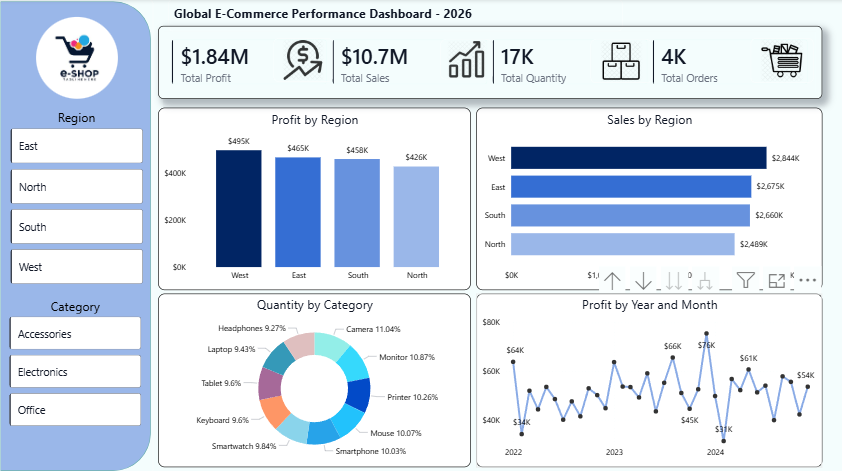

What the dashboard file says about the page in this screenshot:
{"tool":"powerbi","page":{"name":"Executive Sales Overview","canvas":[1280,720],"ordinal":0},"visuals":[{"type":"shape","box":[0,0,236.1,720.2],"z":0},{"type":"clusteredBarChart","title":"Sales by Region","fields":{"Category":["Ecommerce_Project_Cleaned.Region"],"Y":["Ecommerce_Project_Cleaned.New Sales"]},"box":[725.3,161.4,524.9,276.9],"z":1000},{"type":"columnChart","title":"Profit by Region","fields":{"Category":["Ecommerce_Project_Cleaned.Region"],"Y":["Ecommerce_Project_Cleaned.Total Profit"]},"box":[242.9,161.4,473.9,276.9],"z":2000},{"type":"lineChart","title":"Profit by Year and Month","fields":{"Y":["Ecommerce_Project_Cleaned.Total Profit"],"Category":["Ecommerce_Project_Cleaned.Order Date.Variation.Date Hierarchy.Year","Ecommerce_Project_Cleaned.Order Date.Variation.Date Hierarchy.Month"]},"box":[725.3,443.3,524.9,263.3],"z":3000},{"type":"donutChart","title":"Quantity by Category","fields":{"Category":["Ecommerce_Project_Cleaned.Category"],"Y":["Ecommerce_Project_Cleaned.Total Quantity"]},"box":[242.9,443.3,473.9,263.3],"z":4000},{"type":"slicer","fields":{"Values":["Ecommerce_Project_Cleaned.Region"]},"box":[13.6,163.1,210.6,84.9],"z":5000},{"type":"slicer","fields":{"Values":["Ecommerce_Project_Cleaned.Category"]},"box":[13.6,280.3,210.6,84.9],"z":6000},{"type":"textbox","box":[258.2,0,689.6,49.3],"z":7000},{"type":"cardVisual","fields":{"Data":["Ecommerce_Project_Cleaned.Total Profit","Ecommerce_Project_Cleaned.Total Sales","Ecommerce_Project_Cleaned.Total Quantity","Ecommerce_Project_Cleaned.Total Orders"]},"box":[242.9,37.4,1007.2,107],"z":8000},{"type":"image","box":[57.8,27.2,124,124],"z":9000},{"type":"image","box":[417.8,57.8,90,66.2],"z":10000},{"type":"image","box":[670.9,59.4,79.8,61.1],"z":11000},{"type":"image","box":[898.5,59.4,93.4,66.2],"z":12000},{"type":"image","box":[1141.4,57.8,95.1,67.9],"z":13000},{"type":"slicer","fields":{"Values":["Ecommerce_Project_Cleaned.Product Name"]},"box":[13.6,395.8,210.6,84.9],"z":13001},{"type":"slicer","fields":{"Values":["Ecommerce_Project_Cleaned.Month"]},"box":[13.6,513,210.6,84.9],"z":13002}]}

Visuals, with their boxes in screenshot pixels (x1, y1, x2, y2), scaled from the page's 1280x720 canvas onto the 842x471 screenshot:
shape: 0 0 155 470
"Sales by Region" clusteredBarChart: 477 106 822 287
"Profit by Region" columnChart: 160 106 472 287
"Profit by Year and Month" lineChart: 477 290 822 462
"Quantity by Category" donutChart: 160 290 472 462
slicer - Ecommerce_Project_Cleaned.Region: 9 107 147 162
slicer - Ecommerce_Project_Cleaned.Category: 9 183 147 239
textbox: 170 0 623 32
cardVisual - Ecommerce_Project_Cleaned.Total Profit x Ecommerce_Project_Cleaned.Total Sales: 160 24 822 94
image: 38 18 120 99
image: 275 38 334 81
image: 441 39 494 79
image: 591 39 652 82
image: 751 38 813 82
slicer - Ecommerce_Project_Cleaned.Product Name: 9 259 147 314
slicer - Ecommerce_Project_Cleaned.Month: 9 336 147 391
